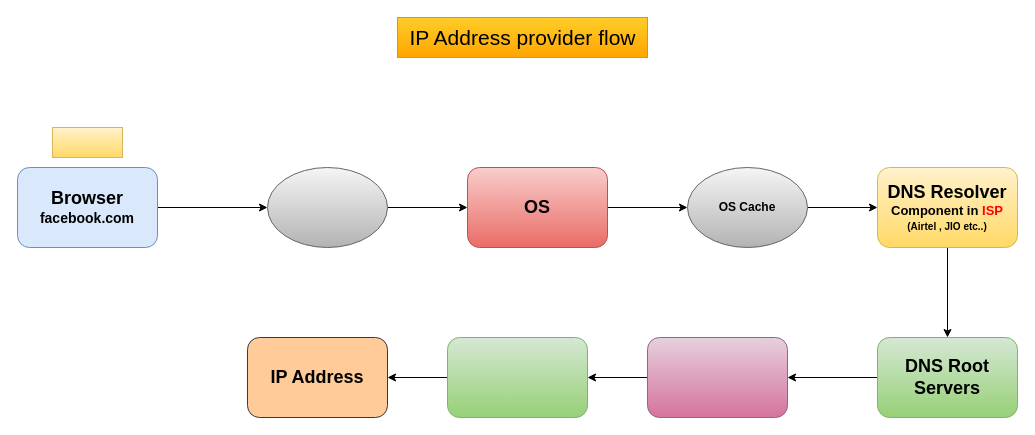
This 1035x435 diagram has some shape labels left out. Each missing label, with the centre of its shape:
Chrome Browser Cache: (327,207)
CLIENT: (87,142)
Name servers: (517,377)
TLD info: (717,377)
